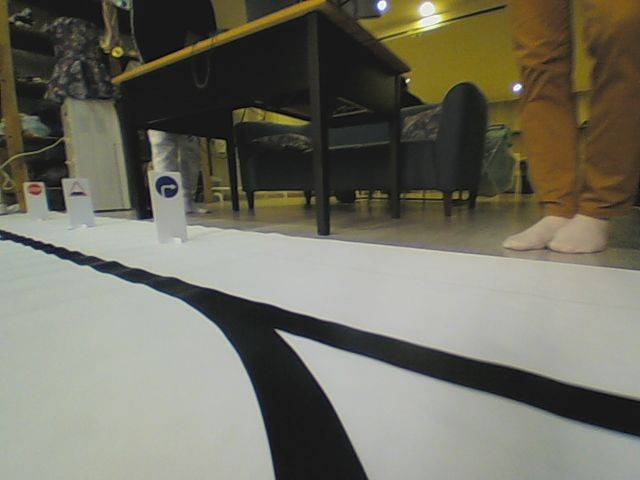Nerov: (66, 179, 87, 198)
Right: (154, 175, 179, 199)
